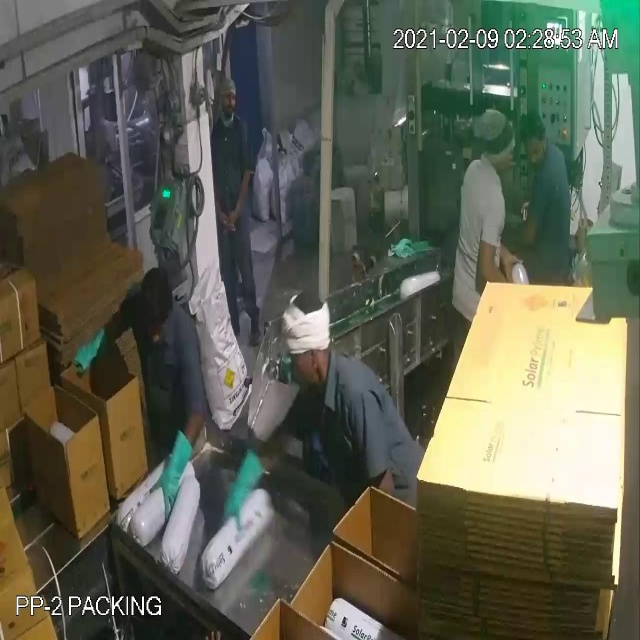Guantes: (142, 429, 203, 526), (220, 445, 262, 541), (66, 324, 111, 381)
Sin_guantes: (495, 237, 535, 295), (230, 162, 256, 235)
